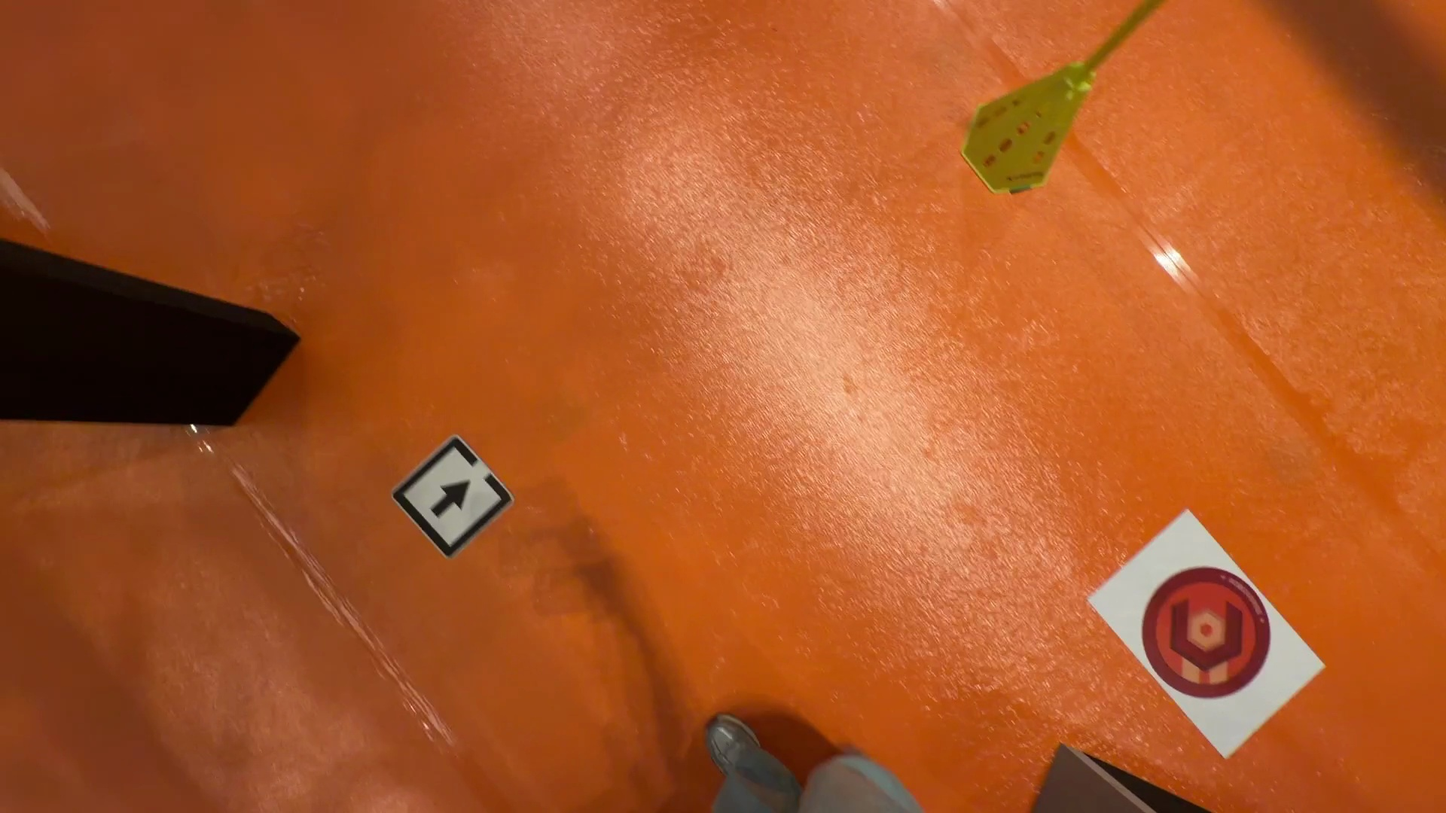landing_pad: (1139, 566, 1268, 699)
